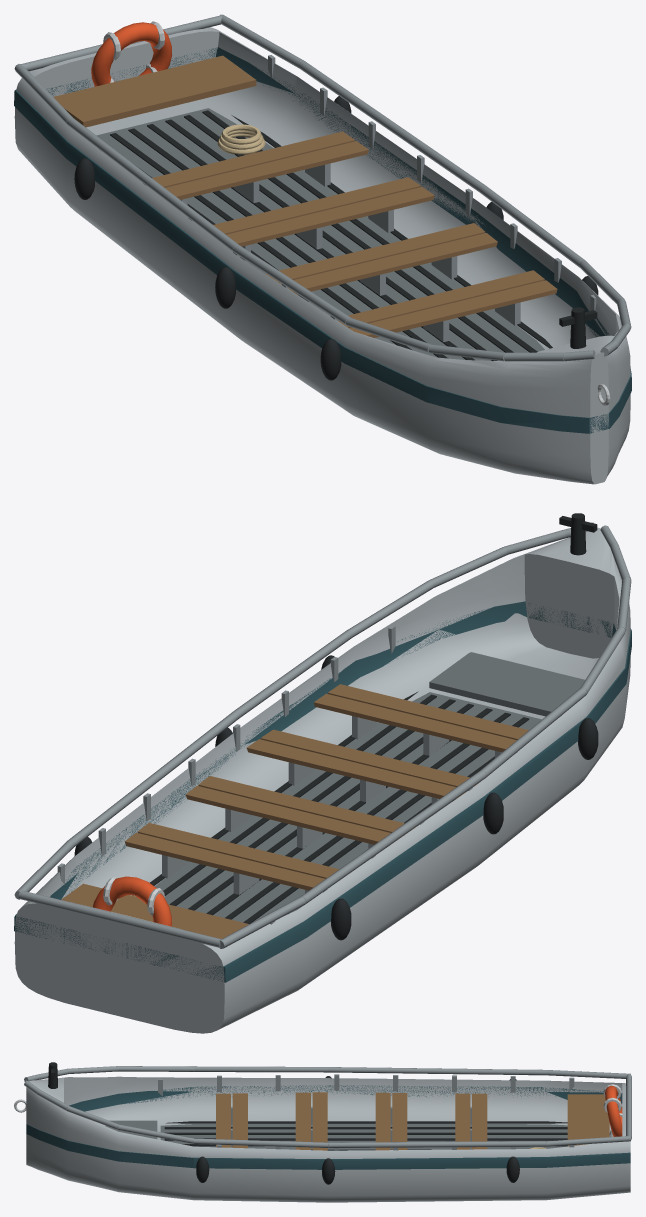
Rendered from boat.glb.
3 renders of one model, top to bottom at view 1: azimuth 30°, elevation 25°; view 2: azimuth 150°, elevation 25°; view 3: azimuth 270°, elevation 25°, orthographic. The views are drawn at different scales.
Visible parts, largest first — view 1: hull_14, band_15, floor_33, bench_64, bench_54, bench_49, bench_59, bench_44, bench_48, bench_53, bench_58, bench_43 (+20 smaller); view 2: hull_14, band_15, floor_33, floor_63, bench_48, bench_53, bench_43, bench_58, bench_49, bench_64, bench_54, bench_59 (+19 smaller); view 3: hull_14, band_15, floor_33, bench_64, rail_1, rail_8, bench_54, bench_48, rail_2, trim_35, bench_49, rail_9 (+22 smaller).
Boxes of the visible parts, x1,y1,x2,y2 form: hull_14: (14,27,630,484); band_15: (14,47,631,433); floor_33: (96,108,544,360); bench_64: (53,55,256,127); bench_54: (226,187,434,246); bench_49: (280,233,497,294); bench_59: (165,141,368,199); bench_44: (349,280,557,337); bench_48: (266,223,485,283); bench_53: (213,177,420,234); bench_58: (152,131,354,187); bench_43: (338,270,544,327); hull_14: (14,527,630,1033); band_15: (14,601,631,982); floor_33: (155,692,541,922); floor_63: (429,652,584,716); bench_48: (246,739,465,801); bench_53: (185,785,402,847); bench_43: (314,693,516,752); bench_58: (124,832,325,890); bench_49: (260,729,479,786); bench_64: (61,883,248,938); bench_54: (198,776,416,835); bench_59: (137,823,338,878); hull_14: (26,1076,630,1202); band_15: (26,1085,630,1169); floor_33: (160,1123,567,1149); bench_64: (567,1094,609,1146); rail_1: (328,1067,546,1075); rail_8: (328,1141,546,1147); bench_54: (375,1092,390,1150); bench_48: (312,1092,327,1150); rail_2: (194,1066,328,1072); trim_35: (164,1127,567,1129); bench_49: (295,1092,310,1149); rail_9: (194,1138,328,1147).
Size of the model in its own units: 2.48 by 1.43 by 7.36.
